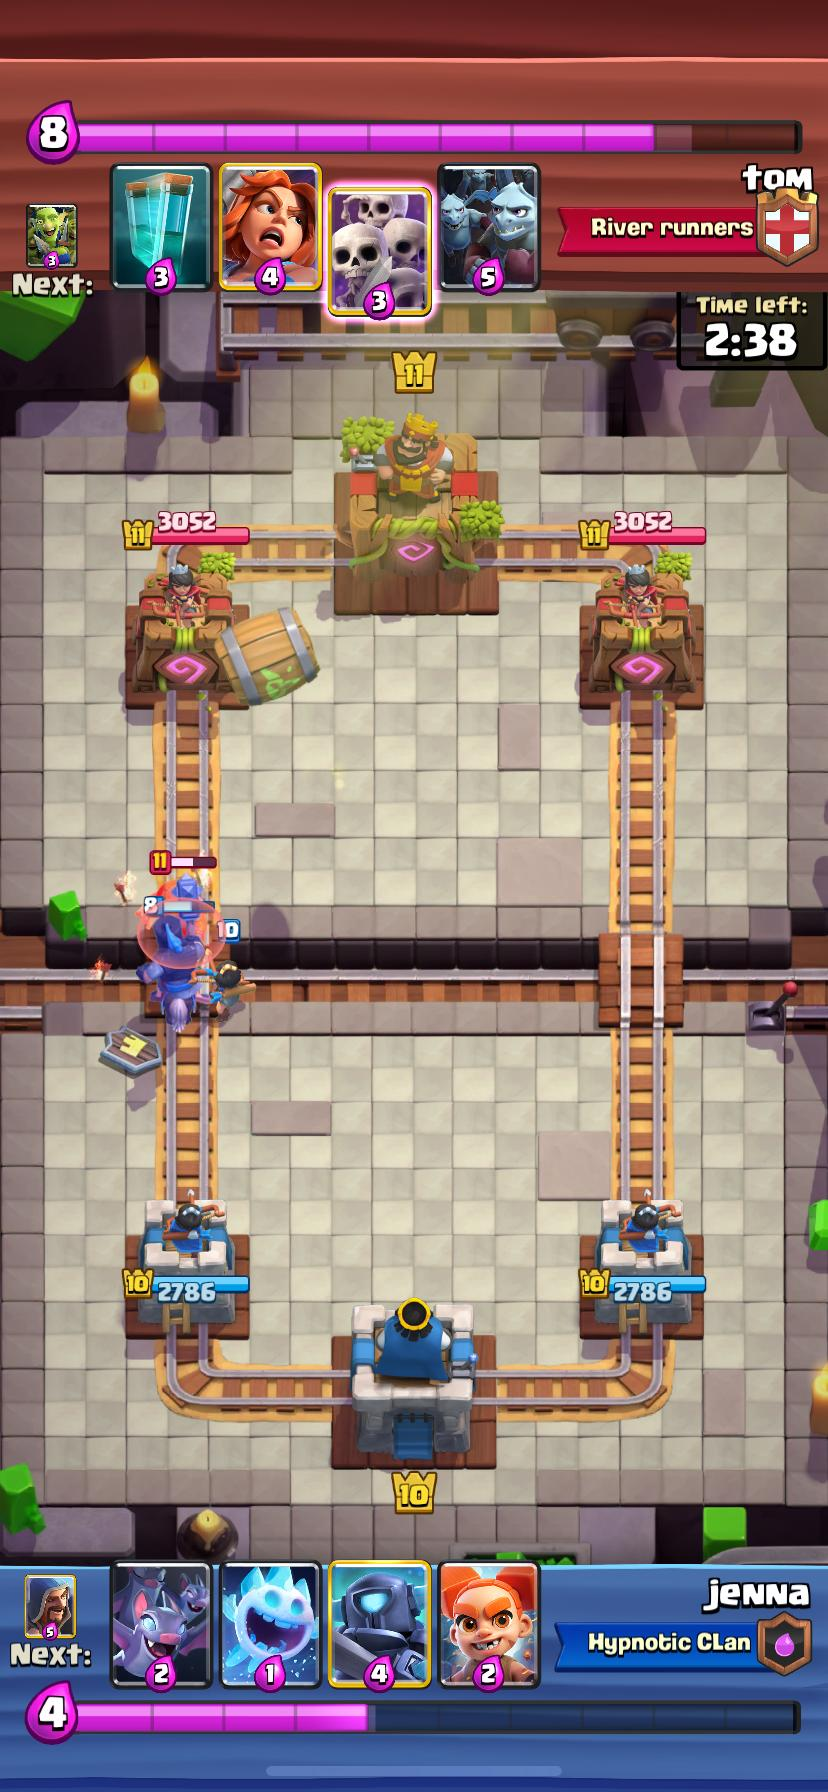EKingTower: (335, 413, 488, 581)
EnemyPrincessTower: (591, 566, 702, 691), (137, 562, 233, 691)
ODarkPrince: (152, 907, 204, 1031)
OGoblinBarrel: (216, 607, 320, 705)
OPrincess: (210, 961, 244, 1022)
OwnKingTower: (351, 1297, 477, 1461)
OwnPrincessTower: (124, 1193, 248, 1333), (580, 1198, 704, 1330)
